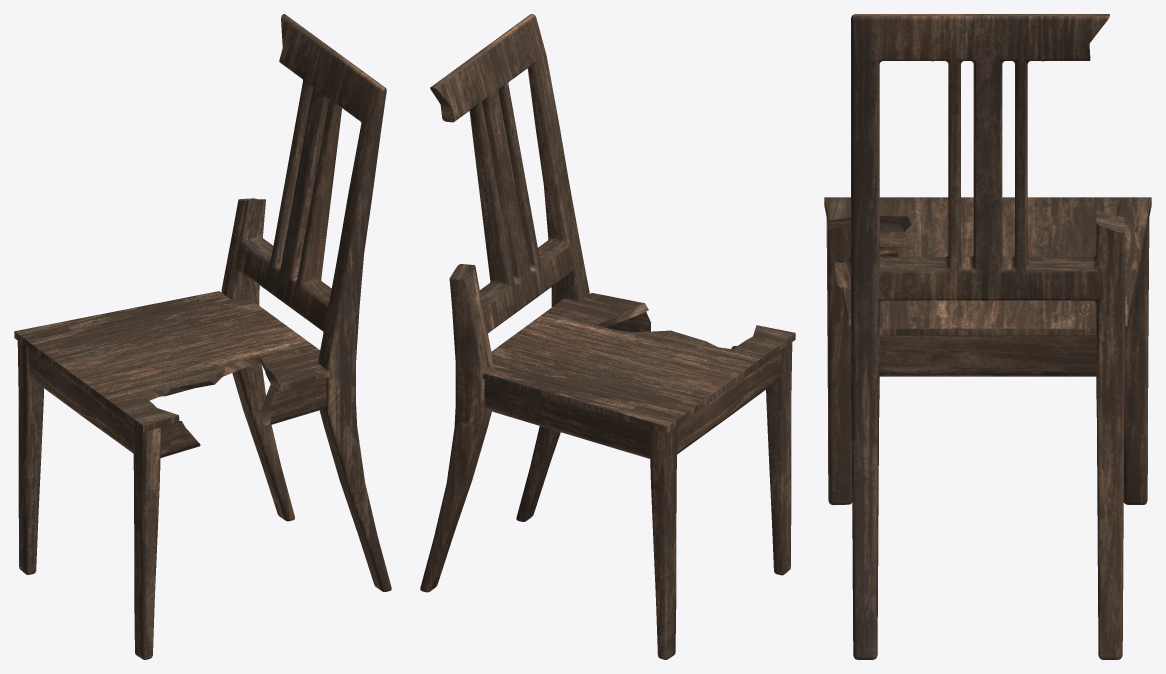
The model's file is Chair_broke.fbx.
3 renders of one model, left to right at view 1: azimuth 30°, elevation 25°; view 2: azimuth 150°, elevation 25°; view 3: azimuth 270°, elevation 25°, orthographic. The views are drawn at different scales.
Parts seen in each view (by area): view 1: Chair01.001; view 2: Chair01.001; view 3: Chair01.001.
Part boxes in pixels (x1,y1,x2,y2): Chair01.001: (14, 14, 391, 659); Chair01.001: (420, 14, 795, 659); Chair01.001: (824, 14, 1151, 659).
Bounding box in the file's own units: 47.21 × 87.29 × 40.36.
1 material, 1 textured.
